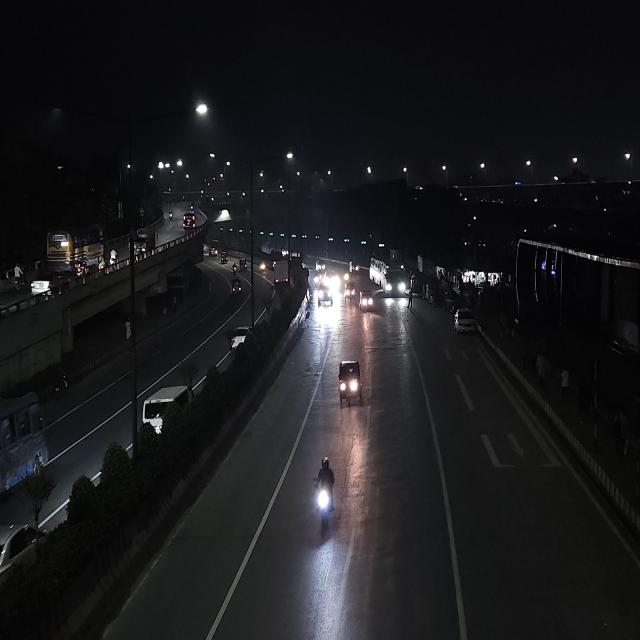bus: (0, 387, 48, 513), (46, 226, 104, 265), (368, 247, 408, 298)
car: (0, 507, 44, 602), (141, 379, 196, 435), (29, 269, 69, 299), (452, 304, 478, 336), (227, 323, 253, 352), (272, 258, 291, 288), (358, 284, 374, 314), (317, 284, 333, 309), (182, 208, 197, 230)
cng: (334, 356, 367, 411), (343, 278, 356, 304), (208, 244, 218, 258), (239, 258, 248, 272), (220, 249, 228, 264)
motorcycle: (308, 454, 338, 540), (121, 313, 135, 343), (230, 260, 238, 276)
pedestrian: (407, 287, 414, 310)
pickup_van: (133, 228, 156, 255)
truck: (272, 258, 290, 287)
